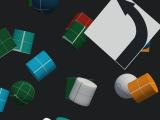Left: (84, 0, 160, 70)
